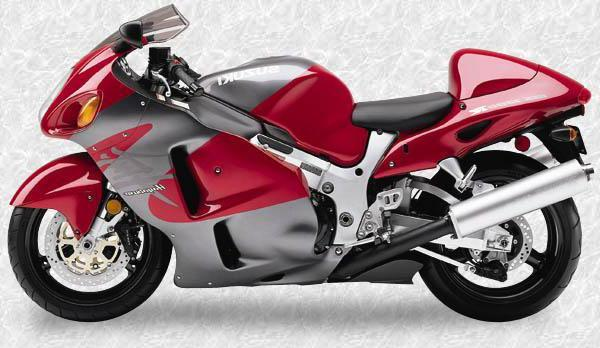motorcycle: (2, 1, 600, 336)
